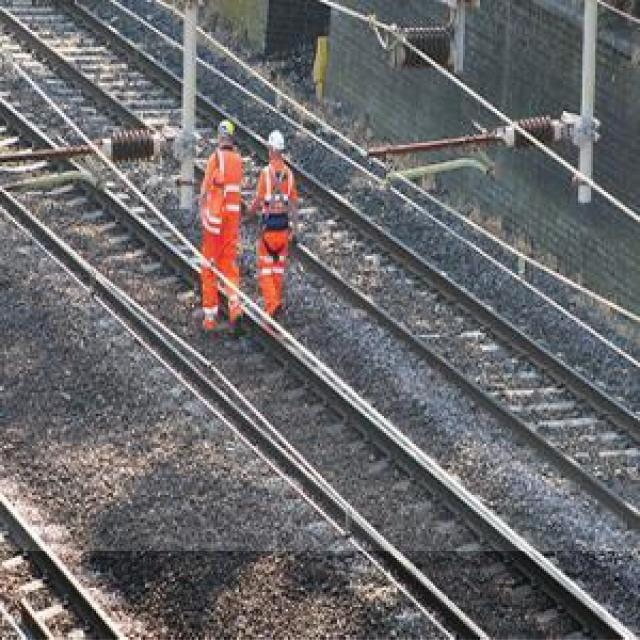rail: (1, 76, 640, 640), (1, 1, 640, 552)
